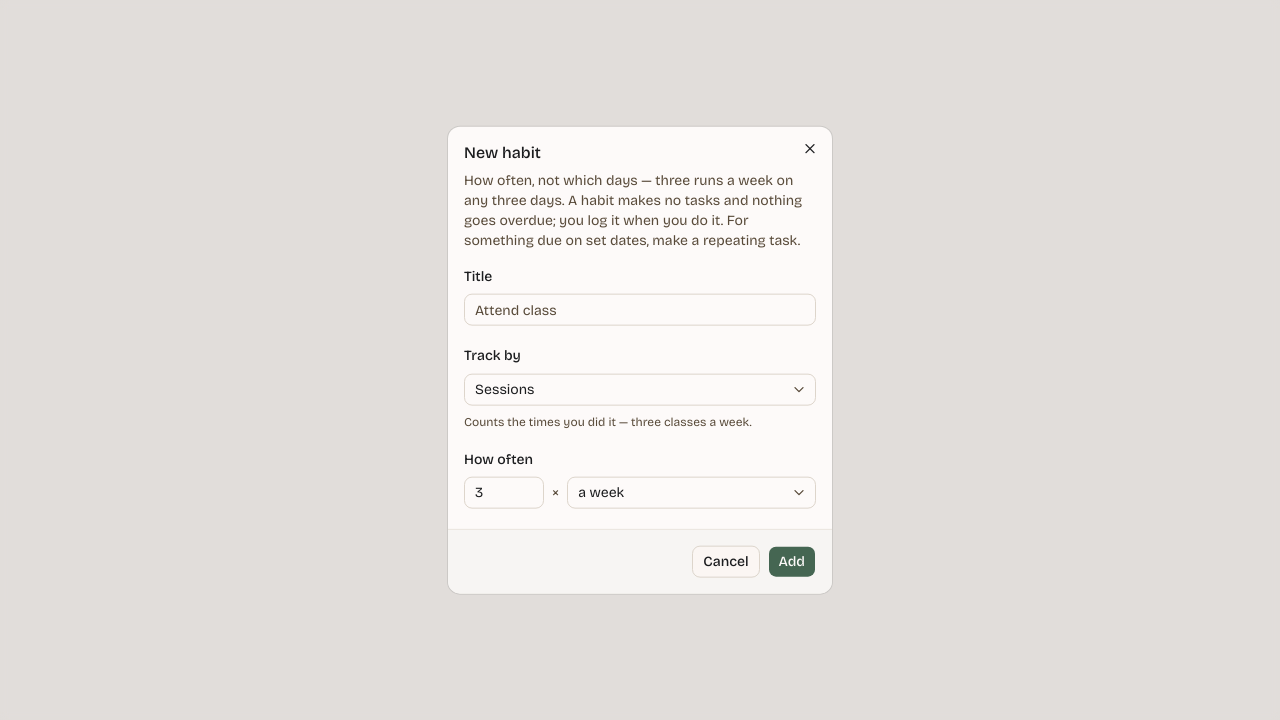
it: HabitDialog validation › says what the floor is, in its own words
Replace the text in the number field labelled "How often" with "0": (504, 492) 464,476 -> 544,508
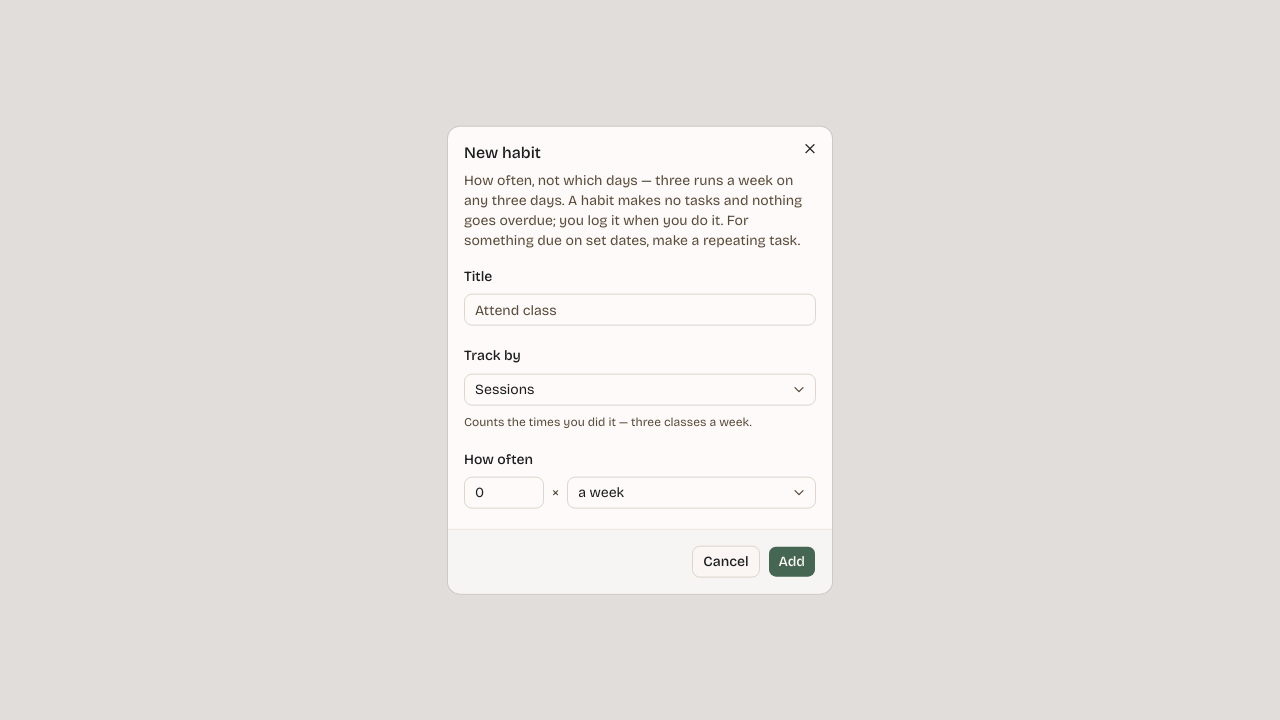
Click the button "Add": (792, 561) 768,545 -> 816,577
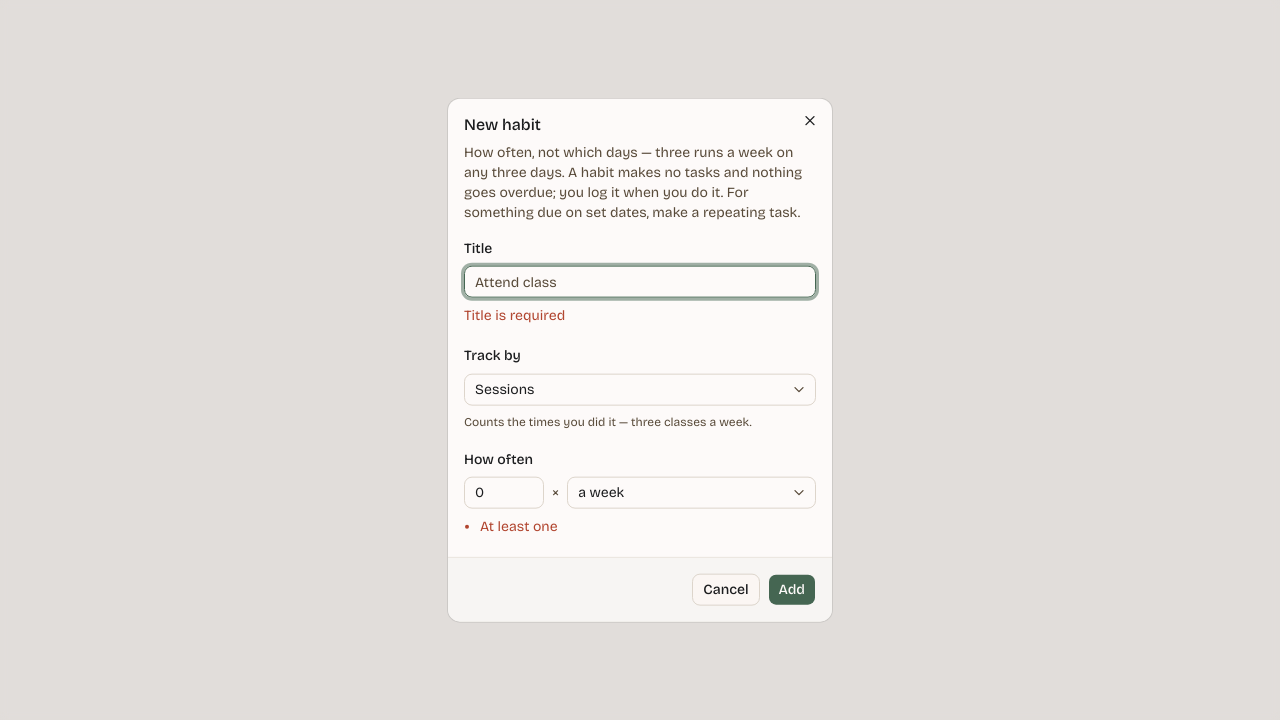
Expected: the list item "At least one" is shown, 480,517 -> 558,534
